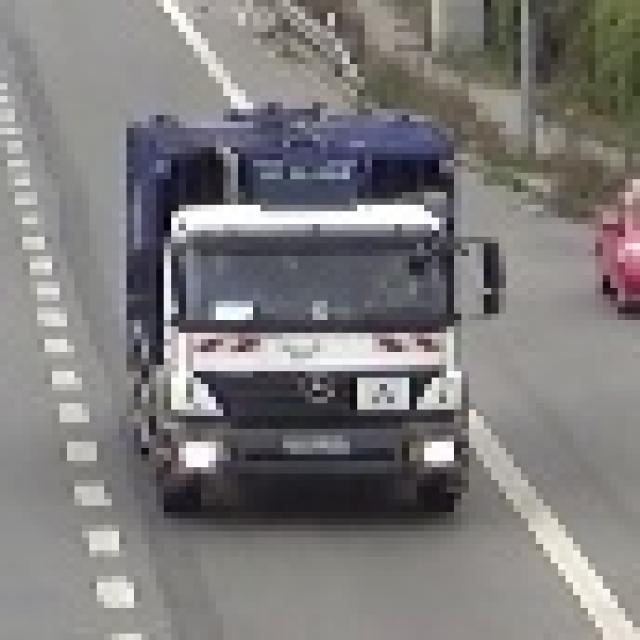bicycle: (111, 102, 506, 500)
